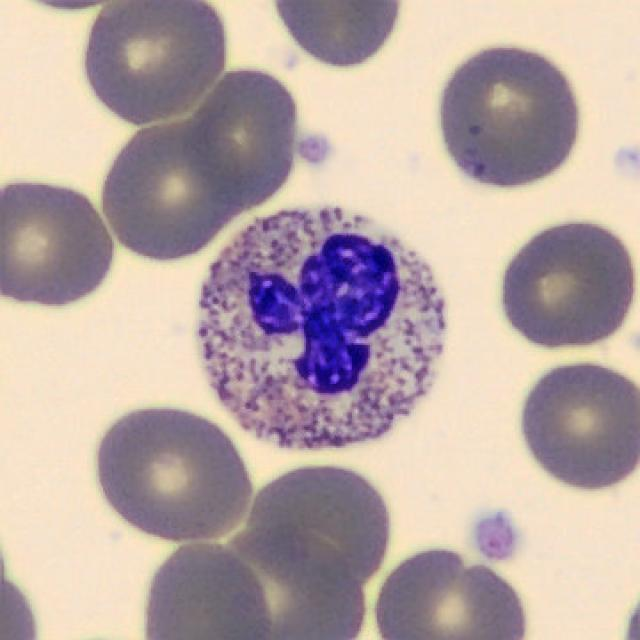Neutrofilo segmentado: (196, 206, 446, 450)
